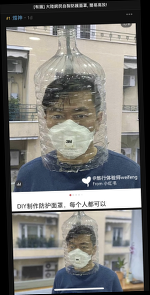with_mask: (46, 106, 95, 158), (67, 241, 94, 268)
